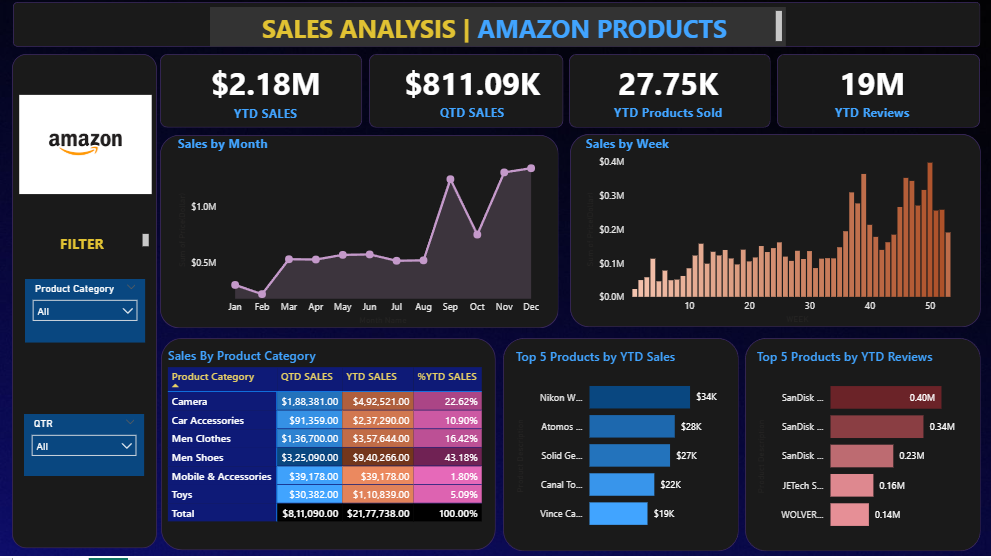

Layout of this report page (visuals, bound fields, positions):
{"tool":"powerbi","page":{"name":"Page 1","canvas":[1280,720],"ordinal":0},"visuals":[{"type":"shape","box":[16.5,2.8,1248.3,57.8],"z":0},{"type":"shape","box":[15.9,69.6,187,637.7],"z":1000},{"type":"shape","box":[475.8,69.8,250.8,95.2],"z":2000},{"type":"shape","box":[206.9,69.4,260.8,95],"z":3000},{"type":"card","fields":{"Values":["Amazon_Data.YTD SALES"]},"box":[218.3,69.4,249.4,95],"z":4000},{"type":"shape","box":[1003.2,69.8,261.9,95.2],"z":5000},{"type":"card","fields":{"Values":["Amazon_Data.QTD SALES"]},"box":[497.9,76.5,222.5,80.8],"z":6000},{"type":"shape","box":[734.7,69.8,260.3,95.2],"z":7000},{"type":"card","fields":{"Values":["Amazon_Data.YTD Products Sold"]},"box":[750.5,76.5,222.5,80.8],"z":8000},{"type":"card","fields":{"Values":["Amazon_Data.YTD Reviews"]},"box":[1014.8,76.5,222.5,80.8],"z":9000},{"type":"shape","box":[206.9,174.4,514.5,249.4],"z":10000},{"type":"areaChart","title":"Sales by Month","fields":{"Category":["date table.Month Name"],"Y":["Sum(Amazon_Data.Price(Dollar))"]},"box":[224.6,173.9,479.7,249.3],"z":11000},{"type":"shape","box":[734.9,173,530.3,249.3],"z":12000},{"type":"columnChart","title":"Sales by Week","fields":{"Category":["date table.WEEK"],"Y":["Sum(Amazon_Data.Price(Dollar))"]},"box":[750.7,173.9,500,247.8],"z":13000},{"type":"shape","box":[207.2,436.2,431.9,273.9],"z":14000},{"type":"pivotTable","title":"Sales By Product  Category","fields":{"Rows":["Amazon_Data.Product Category"],"Values":["Amazon_Data.QTD SALES","Amazon_Data.YTD SALES1","Amazon_Data.YTD SALES"]},"box":[211.6,447.8,421.7,272.5],"z":15000},{"type":"shape","box":[649.3,436.2,304.3,275.4],"z":16000},{"type":"shape","box":[960.9,436.2,304.3,275.4],"z":17000},{"type":"clusteredBarChart","title":"Top 5 Products by YTD Sales","fields":{"Category":["Amazon_Data.Product Description"],"Y":["Amazon_Data.YTD SALES"]},"box":[661.2,449.3,279.1,249.3],"z":18000},{"type":"clusteredBarChart","title":"Top 5 Products by YTD Reviews","fields":{"Category":["Amazon_Data.Product Description"],"Y":["Amazon_Data.YTD Reviews"]},"box":[971.6,449.3,279.1,250.7],"z":19000},{"type":"textbox","box":[271.1,9.6,743.2,50.9],"z":20000},{"type":"slicer","fields":{"Values":["Amazon_Data.Product Category"]},"box":[32.3,360,155.4,81.5],"z":21000},{"type":"slicer","fields":{"Values":["date table.QTR"]},"box":[30.8,533.8,155.4,80],"z":22000},{"type":"image","box":[16.9,116.9,187.7,138.5],"z":23000},{"type":"textbox","box":[21.7,297.1,175.4,30.4],"z":24000}]}

Visuals, with their boxes in screenshot pixels (x1, y1, x2, y2), scaled from the page's 1280x720 canvas onto the 991x560 screenshot:
shape: (13, 2, 979, 47)
shape: (12, 54, 157, 550)
shape: (368, 54, 563, 128)
shape: (160, 54, 362, 128)
card - Amazon_Data.YTD SALES: (169, 54, 362, 128)
shape: (777, 54, 979, 128)
card - Amazon_Data.QTD SALES: (385, 60, 558, 122)
shape: (569, 54, 770, 128)
card - Amazon_Data.YTD Products Sold: (581, 60, 753, 122)
card - Amazon_Data.YTD Reviews: (786, 60, 958, 122)
shape: (160, 136, 559, 330)
"Sales by Month" areaChart: (174, 135, 545, 329)
shape: (569, 135, 980, 328)
"Sales by Week" columnChart: (581, 135, 968, 328)
shape: (160, 339, 495, 552)
"Sales By Product  Category" pivotTable: (164, 348, 490, 559)
shape: (503, 339, 738, 553)
shape: (744, 339, 980, 553)
"Top 5 Products by YTD Sales" clusteredBarChart: (512, 349, 728, 543)
"Top 5 Products by YTD Reviews" clusteredBarChart: (752, 349, 968, 544)
textbox: (210, 7, 785, 47)
slicer - Amazon_Data.Product Category: (25, 280, 145, 343)
slicer - date table.QTR: (24, 415, 144, 477)
image: (13, 91, 158, 199)
textbox: (17, 231, 153, 255)
